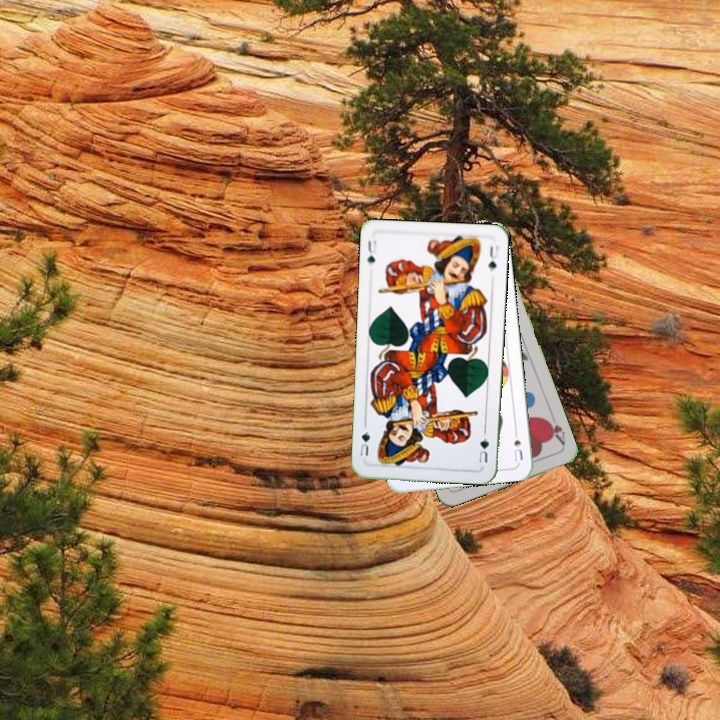GU: (363, 235, 379, 269), (475, 434, 491, 467)
HA: (541, 415, 568, 448)
SU: (510, 424, 525, 464)
